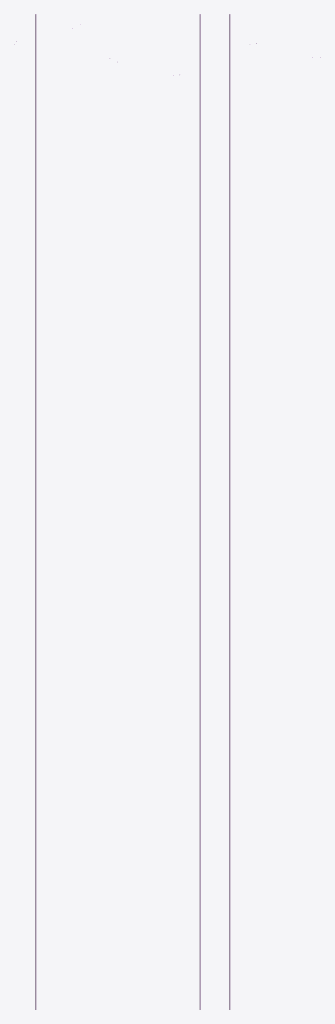
3 views of the same model, side by side, from view 1: azimuth 30°, elevation 25°; view 2: azimuth 150°, elevation 25°; view 3: azimuth 330°, elevation 25° (orthographic).
Visible parts, largest first — view 1: 522; view 2: 522; view 3: 522.
Boxes of the visible parts, <box> form: 522: <box>35,14,36,1009</box>; 522: <box>199,14,200,1009</box>; 522: <box>229,14,230,1009</box>.
Bounding box in the file's own units: 26.01 × 362 × 15.39.
